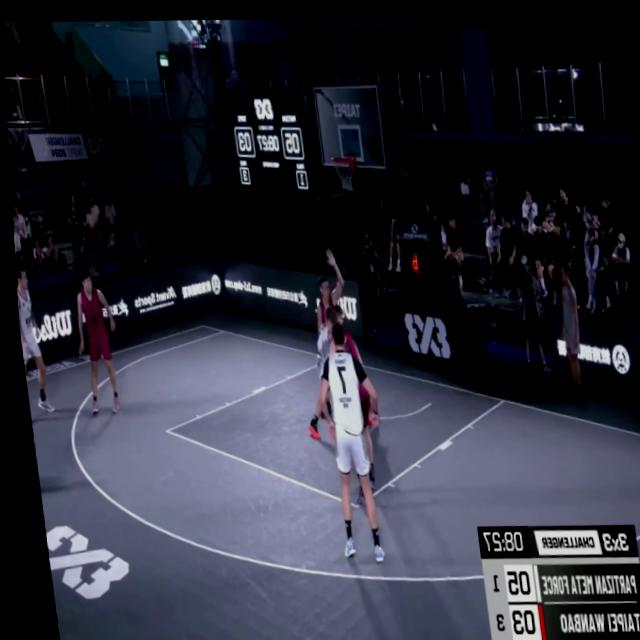hoop: (327, 144, 358, 190)
player: (308, 315, 392, 557), (314, 296, 383, 503), (290, 234, 358, 413), (290, 295, 366, 444), (64, 264, 123, 425), (12, 256, 48, 423)
